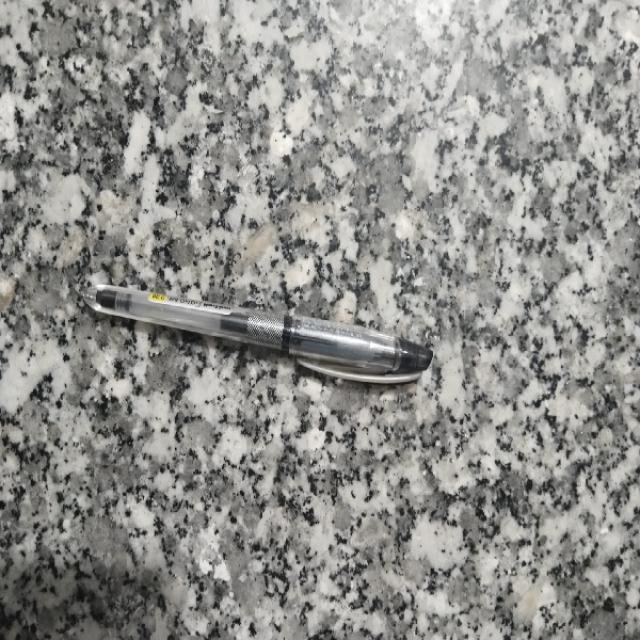pen: (83, 285, 431, 382)
